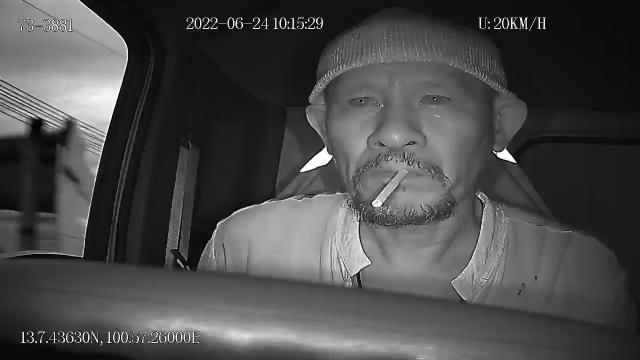SafeDriving: (409, 80, 459, 114), (338, 83, 388, 116)
Smoking: (372, 168, 411, 208)
